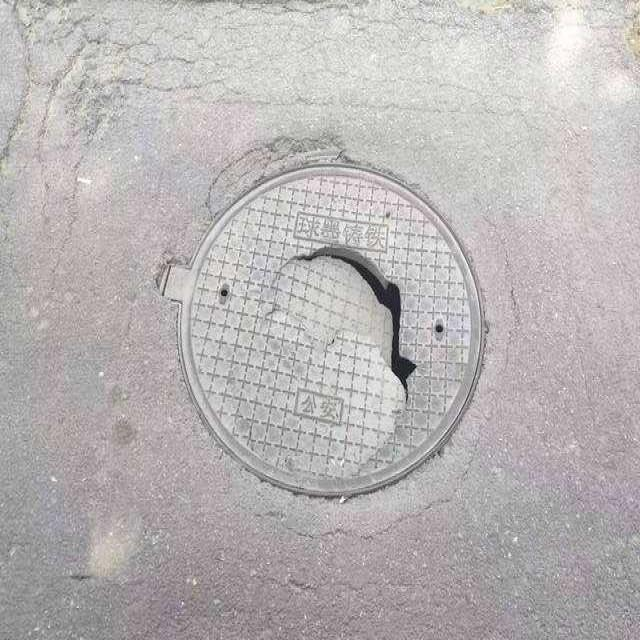Faulty: (155, 161, 482, 495)
